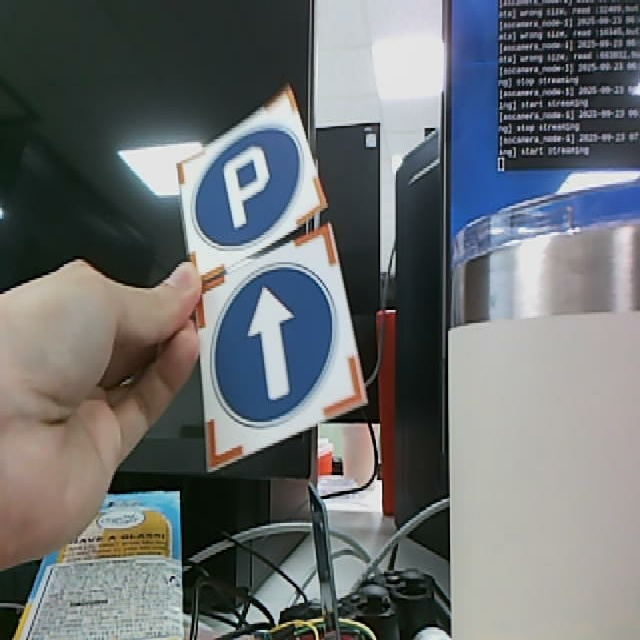parking: (177, 90, 325, 261)
straight: (200, 230, 366, 474)
